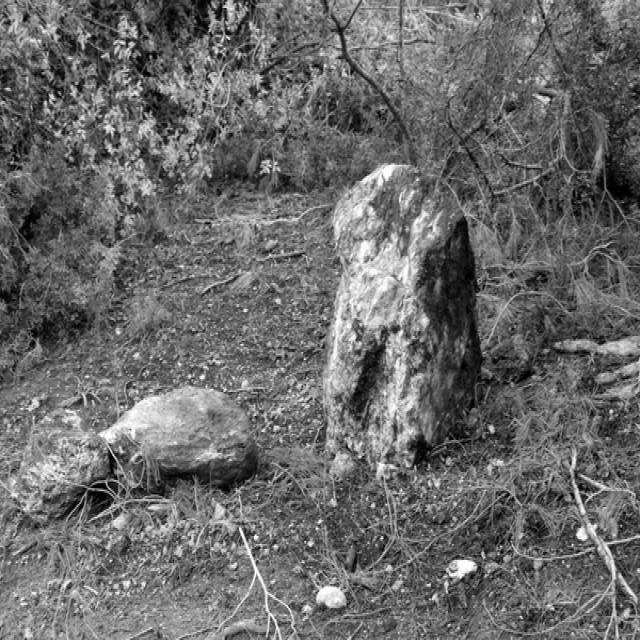Stone: (324, 164, 482, 466), (22, 388, 258, 523)
